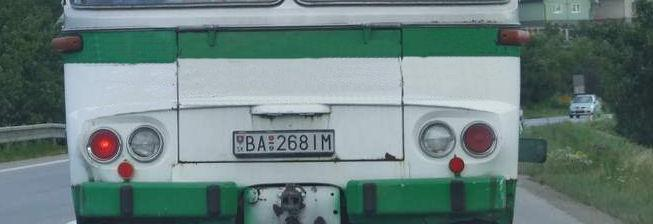placa de veiculo: (221, 119, 337, 169)
